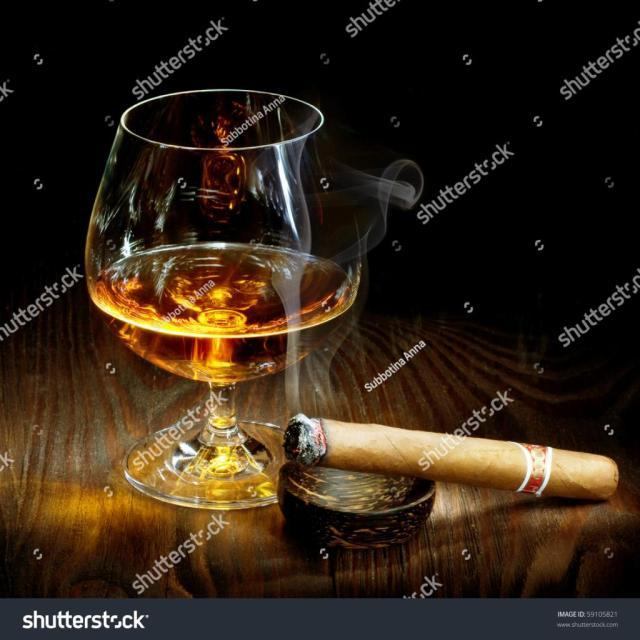smoking: (282, 408, 623, 512)
